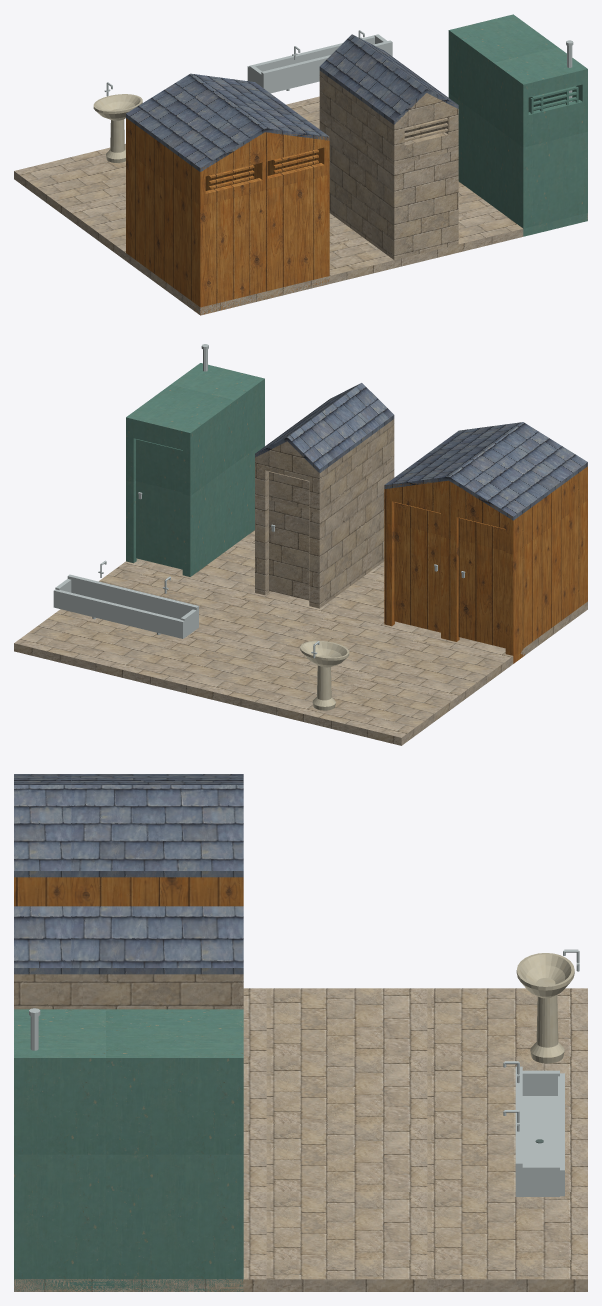
File: bath-camp-washyard.gltf
The picture shows the model from 3 angles, top to bottom: view 1: azimuth 30°, elevation 25°; view 2: azimuth 150°, elevation 25°; view 3: azimuth 270°, elevation 25°; orthographic projection. The views are drawn at different scales.
Parts seen in each view (by area): view 1: exterior-timber, exterior-stone, exterior-blue, roof-slate, floor-stone, roof-blue, fixture-metal, gable-timber, fixture-carved, partition-timber, gable-stone, floor-blue; view 2: floor-stone, exterior-timber, roof-slate, exterior-stone, exterior-blue, door-timber (×2), roof-blue, door-blue, fixture-metal, door-stone, gable-timber, fixture-carved (+1 smaller); view 3: floor-stone, exterior-blue, roof-slate, roof-blue, exterior-stone, exterior-timber, fixture-metal, fixture-carved, floor-blue.
Part boxes in pixels (box(x1,y1,x2,y2)): exterior-timber: box(126, 118, 329, 307); exterior-stone: box(319, 71, 458, 259); exterior-blue: box(448, 39, 587, 228); roof-slate: box(126, 34, 458, 171); floor-stone: box(14, 96, 587, 315); roof-blue: box(448, 14, 587, 93); fixture-metal: box(247, 34, 392, 93); gable-timber: box(200, 132, 329, 172); fixture-carved: box(93, 94, 142, 162); partition-timber: box(205, 156, 267, 291); gable-stone: box(394, 93, 458, 124); floor-blue: box(523, 213, 587, 236); floor-stone: box(14, 530, 587, 745); exterior-timber: box(384, 466, 587, 655); roof-slate: box(255, 383, 587, 520); exterior-stone: box(255, 419, 394, 608); exterior-blue: box(126, 387, 264, 576); door-timber (×2): box(394, 502, 505, 648); roof-blue: box(126, 363, 264, 441); door-blue: box(136, 439, 182, 569); fixture-metal: box(53, 574, 198, 638); door-stone: box(269, 471, 309, 600); gable-timber: box(384, 480, 512, 520); fixture-carved: box(300, 641, 349, 710); floor-stone: box(14, 988, 587, 1291); exterior-blue: box(14, 1071, 243, 1279); roof-slate: box(14, 774, 243, 974); roof-blue: box(14, 1009, 243, 1071); exterior-stone: box(14, 974, 243, 1009); exterior-timber: box(14, 877, 243, 906); fixture-metal: box(515, 1066, 564, 1196); fixture-carved: box(516, 953, 574, 1063); floor-blue: box(14, 1279, 243, 1291).
Bounding box in the file's own units: 6 × 2.62 × 5.
Materials: 9 (5 with a texture image).
